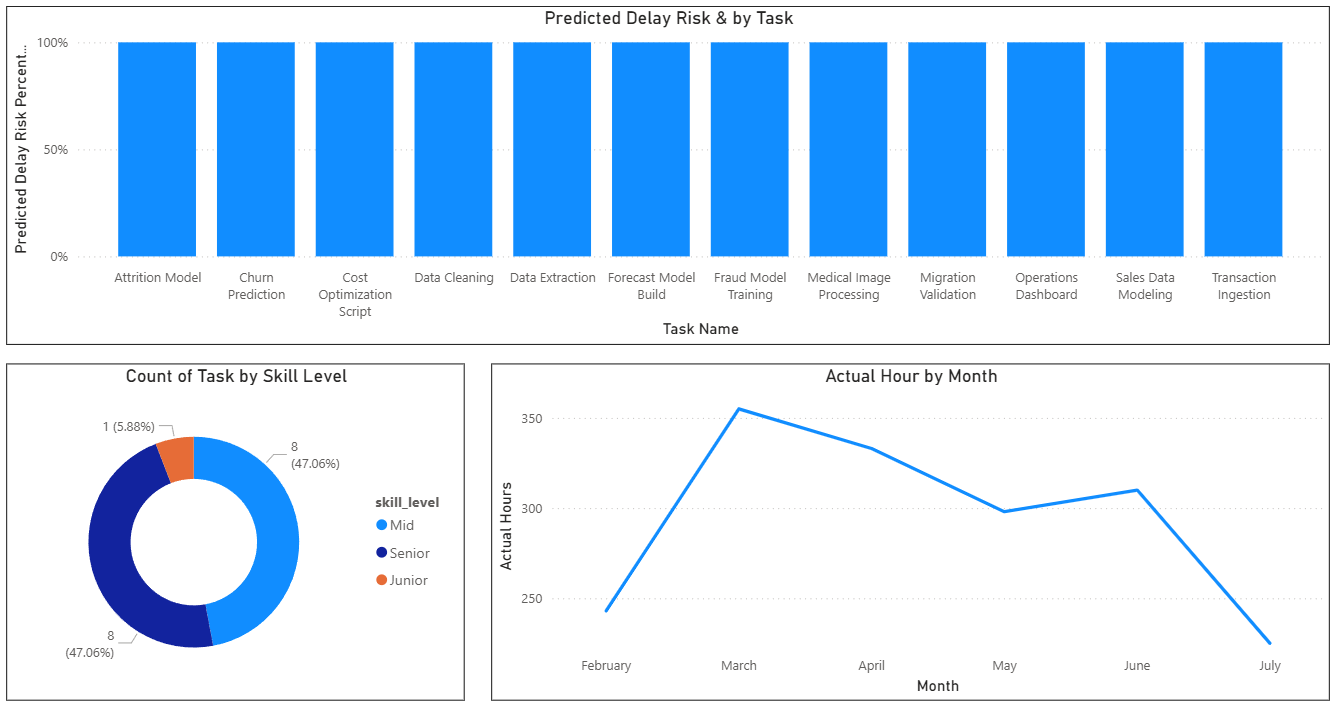

This screenshot's page, from the dashboard's own definition file:
{"tool":"powerbi","page":{"name":"PREDICTIVE ANALYTICS","canvas":[1280,720],"ordinal":1},"visuals":[{"type":"columnChart","title":"Predicted Delay Risk & by Task","fields":{"Category":["tasks.task_name"],"Y":["delays.Predicted Delay Risk &"]},"box":[29.1,27.9,1231.4,315.1],"z":0},{"type":"donutChart","title":"Count of Task by Skill Level","fields":{"Y":["Count(tasks.task_id)"],"Category":["employee.skill_level"]},"box":[29.1,360.5,426.7,314],"z":1000},{"type":"lineChart","title":"Actual Hour by Month","fields":{"Category":["tasks.deadline.Variation.Date Hierarchy.Month"],"Y":["Sum(tasks.actual_hours)"]},"box":[480.2,360.5,780.2,314],"z":2000}]}

Visuals, with their boxes on the page's 1280x720 design canvas (x1, y1, x2, y2). These are canvas units, not pixel positions in the 1340x708 screenshot, which may show the page scaled, cropped or inside an application window:
"Predicted Delay Risk & by Task" columnChart: rect(29, 28, 1260, 343)
"Count of Task by Skill Level" donutChart: rect(29, 360, 456, 674)
"Actual Hour by Month" lineChart: rect(480, 360, 1260, 674)
